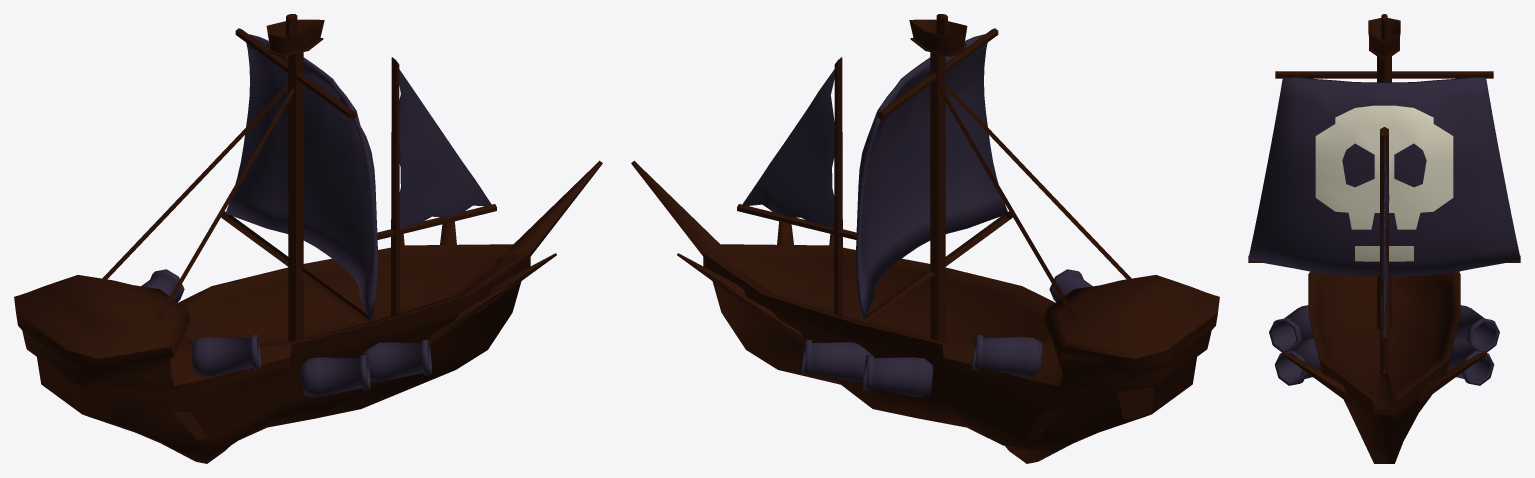
The model's file is priate_ship.fbx.
3 renders of one model, left to right at view 1: azimuth 30°, elevation 25°; view 2: azimuth 150°, elevation 25°; view 3: azimuth 270°, elevation 25°, orthographic. The views are drawn at different scales.
Parts seen in each view (by area): view 1: Cylinder.003, Plane, Cube, Cylinder.005, Cylinder.002, Cylinder, Cylinder.010, Cylinder.001, Cylinder.007, Cylinder.000, Cylinder.013, Cylinder.004 (+4 smaller); view 2: Cylinder.003, Plane, Cube, Cylinder.005, Cylinder.002, Cylinder, Cylinder.010, Cylinder.001, Cylinder.007, Cylinder.000, Cylinder.004, Cylinder.013 (+4 smaller); view 3: Plane, Cylinder.003, Cylinder, Cylinder.001, Cylinder.005, Cylinder.006, Cylinder.008, Cylinder.010, Cube, Cylinder.007.
Boxes of the visible parts, x1,y1,x2,y2 form: Cylinder.003: (14,244,530,463); Plane: (225,34,378,318); Cube: (399,69,492,227); Cylinder.005: (266,14,324,341); Cylinder.002: (141,269,261,376); Cylinder: (301,354,370,397); Cylinder.010: (390,57,399,315); Cylinder.001: (362,339,431,382); Cylinder.007: (495,160,602,266); Cylinder.000: (221,211,370,323); Cylinder.013: (102,83,288,279); Cylinder.004: (156,87,294,321); Cylinder.003: (703,244,1219,463); Plane: (855,34,1008,318); Cube: (742,69,835,227); Cylinder.005: (909,14,967,341); Cylinder.002: (972,269,1092,376); Cylinder: (863,354,932,397); Cylinder.010: (834,57,843,315); Cylinder.001: (802,339,871,382); Cylinder.007: (631,160,738,266); Cylinder.000: (863,211,1012,323); Cylinder.004: (945,83,1131,279); Cylinder.013: (939,87,1077,321); Plane: (1248,77,1520,276); Cylinder.003: (1308,271,1460,463); Cylinder: (1269,305,1499,352); Cylinder.001: (1274,337,1494,385); Cylinder.005: (1368,14,1400,329); Cylinder.006: (1275,71,1493,78); Cylinder.008: (1282,352,1486,409); Cylinder.010: (1380,127,1388,374); Cube: (1381,140,1389,336); Cylinder.007: (1372,370,1396,409).
Size of the model in its own units: 571 by 396 by 252.
